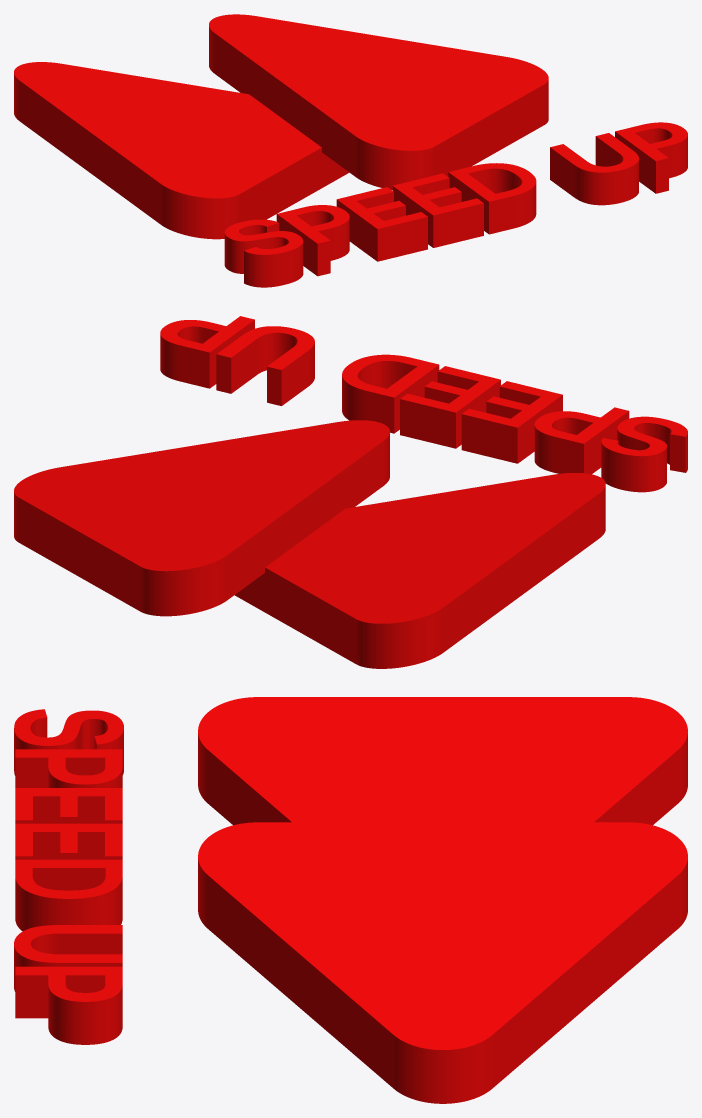
File: SpeedUp.fbx
3 renders of one model, top to bottom at view 1: azimuth 30°, elevation 25°; view 2: azimuth 150°, elevation 25°; view 3: azimuth 270°, elevation 25°, orthographic. The views are drawn at different scales.
Parts seen in each view (by area): view 1: PowerUps; view 2: PowerUps; view 3: PowerUps.
Boxes of the visible parts, x1,y1,x2,y2 form: PowerUps: [14, 14, 687, 287]; PowerUps: [14, 316, 687, 668]; PowerUps: [14, 697, 687, 1103].
Bounding box in the file's own units: 1.17 × 0.2163 × 1.14.
